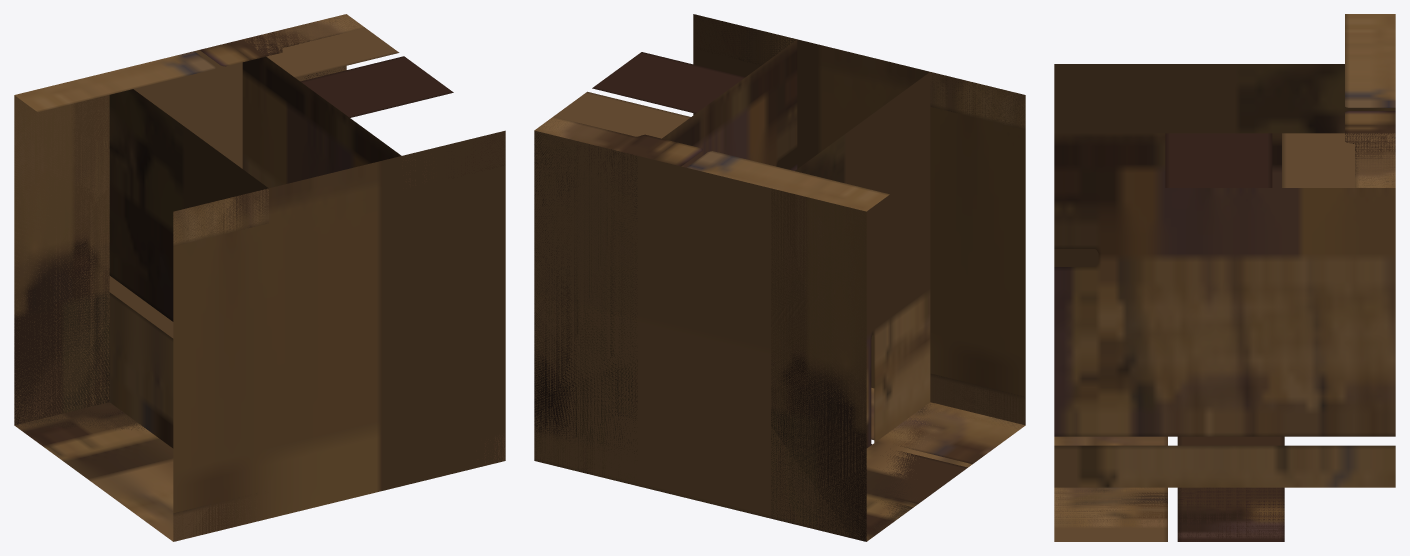
File: section-3.obj
The picture shows the model from 3 angles, left to right: view 1: azimuth 30°, elevation 25°; view 2: azimuth 150°, elevation 25°; view 3: azimuth 270°, elevation 25°; orthographic projection. The views are drawn at different scales.
Size of the model in its own units: 1 by 0.95 by 0.83.
